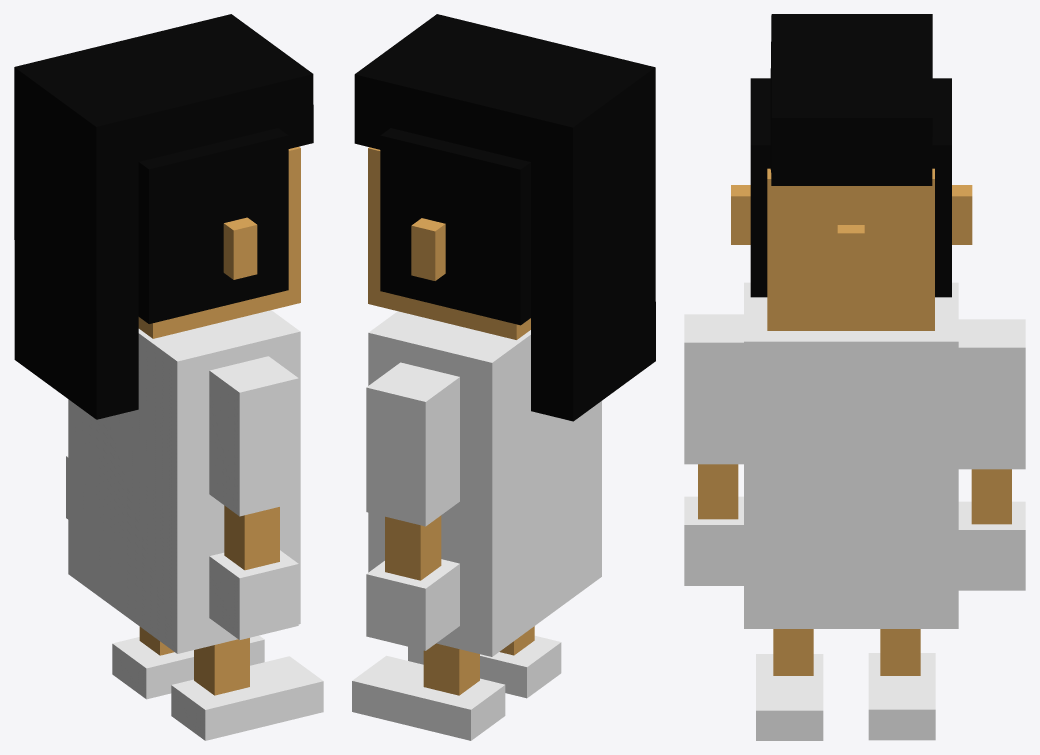
The model's file is agnes.glb.
3 renders of one model, left to right at view 1: azimuth 30°, elevation 25°; view 2: azimuth 150°, elevation 25°; view 3: azimuth 270°, elevation 25°, orthographic. The views are drawn at different scales.
Visible parts, largest first — view 1: Cube.012, Cube, Cube.007, Cube.011, Cube.006, Cube.009, Cube.010, Cube.008, Cube.001; view 2: Cube.012, Cube, Cube.002, Cube.010, Cube.004, Cube.006, Cube.011, Cube.003, Cube.005; view 3: Cube, Cube.012, Cube.006, Cube.002, Cube.007, Cube.004, Cube.010, Cube.011, Cube.009, Cube.003, Cube.008, Cube.001 (+1 smaller).
Boxes of the visible parts, box(x1,y1,x2,y2) form: Cube.012: box(14, 14, 313, 419); Cube: box(68, 310, 300, 653); Cube.007: box(209, 356, 298, 516); Cube.011: box(171, 656, 323, 740); Cube.006: box(138, 146, 300, 338); Cube.009: box(209, 550, 298, 639); Cube.010: box(112, 635, 264, 699); Cube.008: box(224, 505, 279, 570); Cube.001: box(194, 638, 249, 695); Cube.012: box(354, 14, 655, 421); Cube: box(368, 311, 601, 656); Cube.002: box(366, 362, 459, 526); Cube.010: box(352, 655, 505, 740); Cube.004: box(366, 559, 459, 650); Cube.006: box(368, 147, 530, 339); Cube.011: box(408, 635, 561, 698); Cube.003: box(385, 515, 441, 580); Cube.005: box(423, 643, 479, 695); Cube: box(744, 282, 958, 628); Cube.012: box(750, 14, 951, 297); Cube.006: box(731, 168, 972, 330); Cube.002: box(958, 319, 1025, 469); Cube.007: box(684, 314, 743, 464); Cube.004: box(958, 501, 1025, 590); Cube.010: box(868, 653, 935, 740); Cube.011: box(756, 654, 823, 740); Cube.009: box(684, 496, 743, 585); Cube.003: box(971, 469, 1011, 524); Cube.008: box(698, 464, 738, 519); Cube.001: box(773, 629, 813, 675).
Size of the model in its own units: 0.745 by 2.04 by 1.02.
